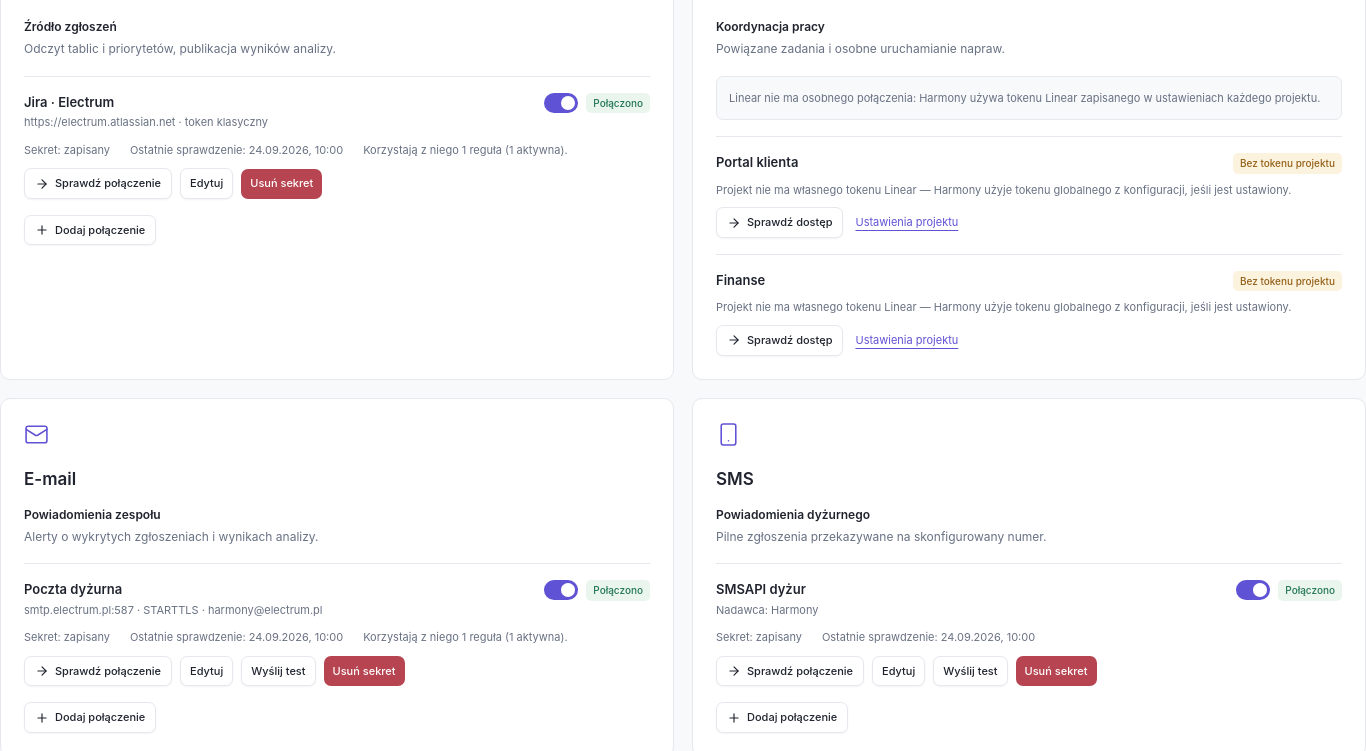
Test case: IntegrationsPage — clearing a secret and stopped effects (T25.5) › clears a secret only after a separate confirmation and then shows stopped effects
The image size is (1366, 751).
(page scrolled)
Click the button "Usuń sekret" below "Poczta dyżurna": (364, 671) [324,656,404,686]
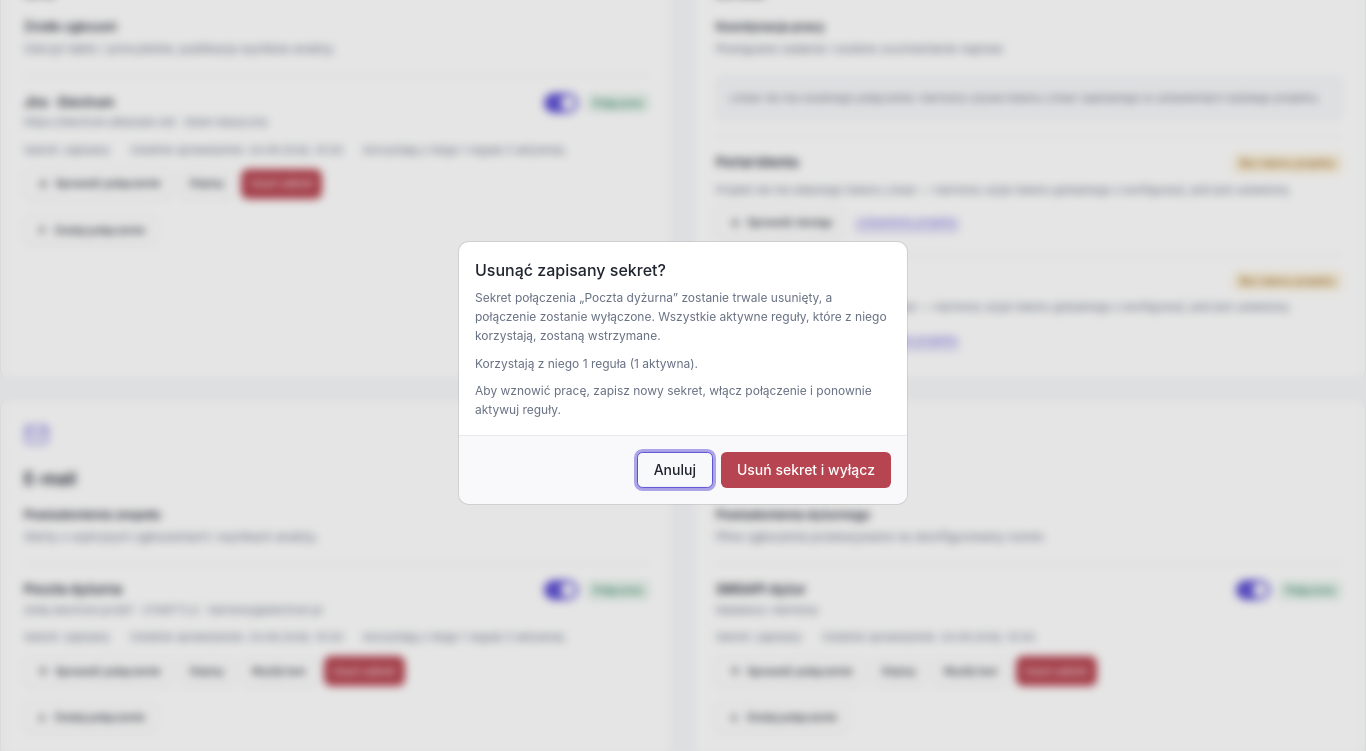
Result: the dialog "Usunąć zapisany sekret?" shows "połączenie zostanie wyłączone" at [475,290,887,343]
Result: the dialog "Usunąć zapisany sekret?" shows "aktywne reguły" at [475,290,887,343]
Click the button "Anuluj": (675, 470) [637,452,713,488]
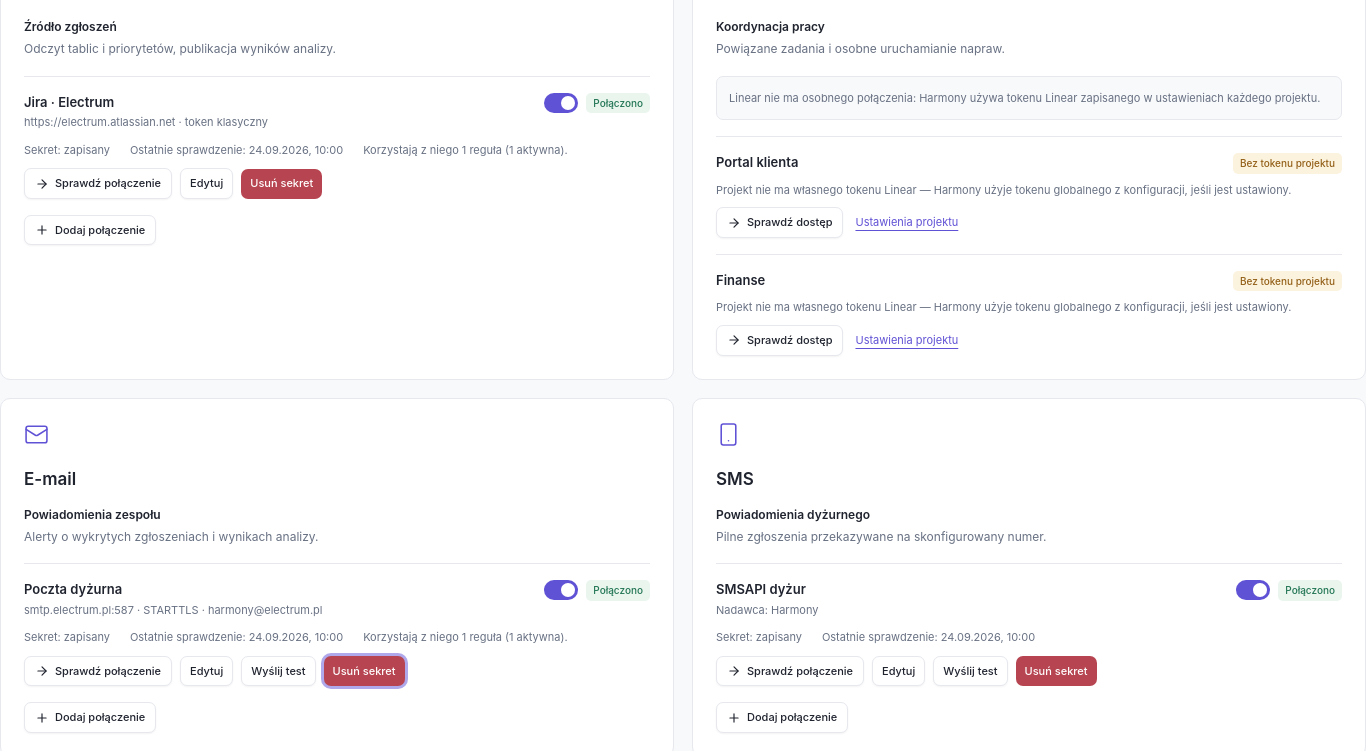
Result: the dialog is gone
Click the button "Usuń sekret" below "Poczta dyżurna": (364, 671) [324,656,404,686]
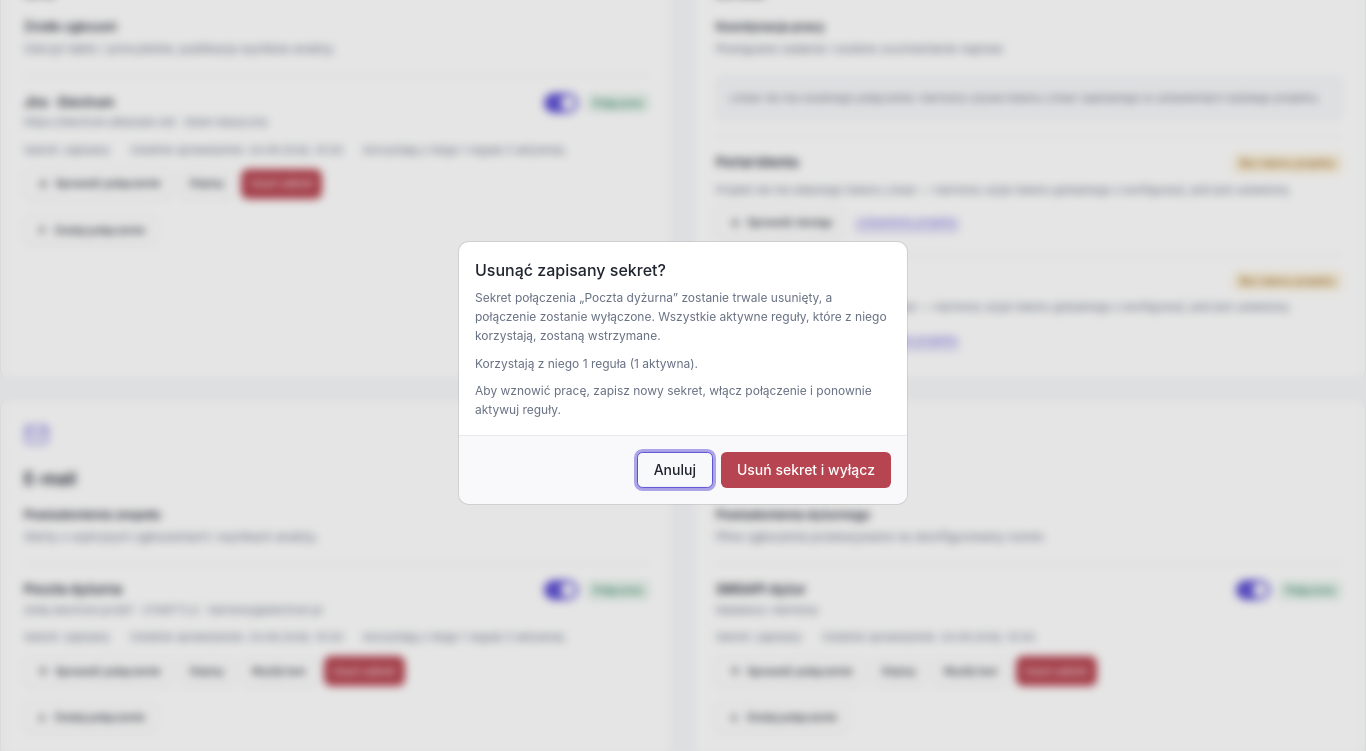
Click the button "Usuń sekret i wyłącz": (806, 470) [721,452,891,488]
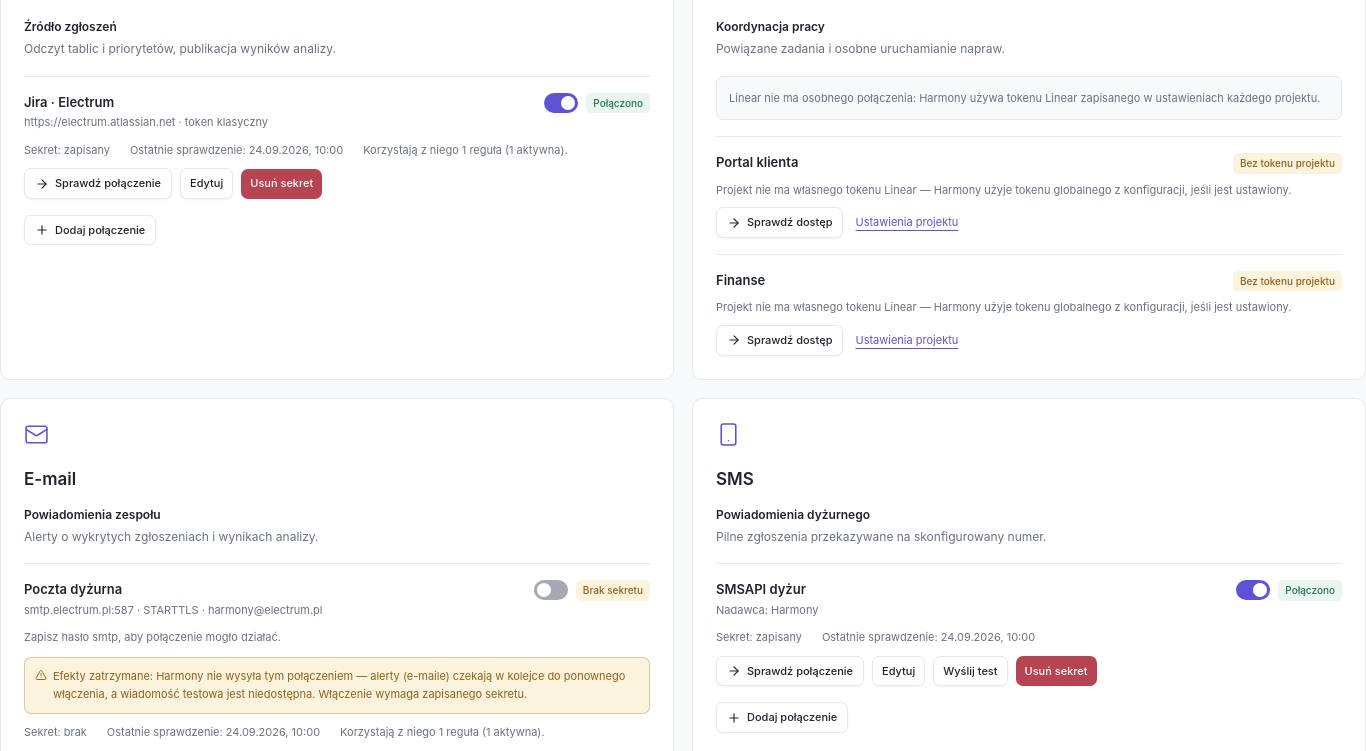
Result: the text "Brak sekretu" is shown at [576,580,650,601]
Result: the list item "Poczta dyżurna" shows "Efekty zatrzymane" at [53,669,625,700]
Result: the switch named "Połączenie Poczta dyżurna włączone" is disabled at [534,580,568,600]
